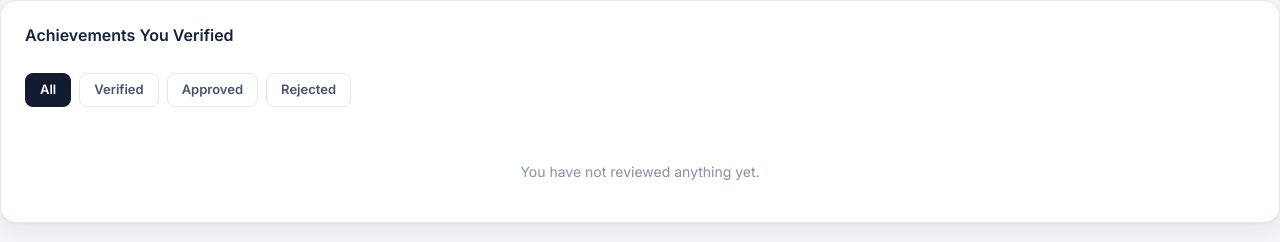
it: ReviewedSection › says which filter came back empty
The image size is (1280, 242).
Expected: the text "You have not reviewed anything yet." is shown, [520,162,760,180]
Click the button "Rejected". click: coordinates (309, 90)
box: [266,73,351,106]
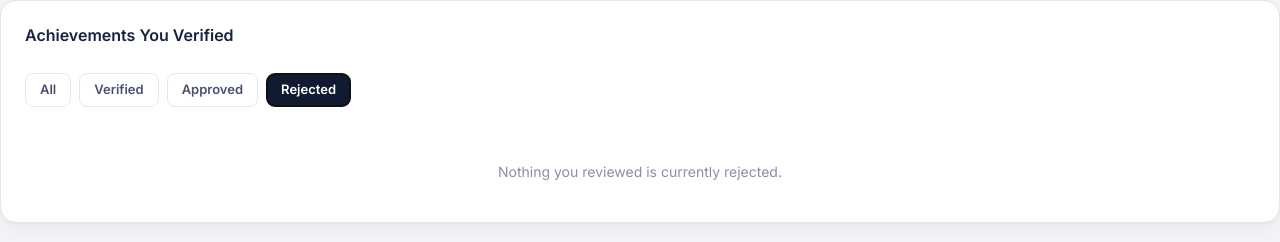
Now the text "Nothing you reviewed is currently rejected." is shown, box [498,162,782,180]
